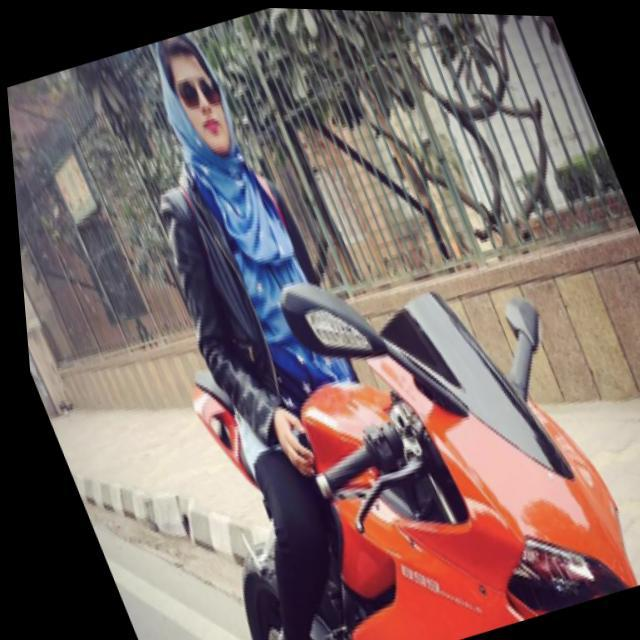Nonhelmet: (136, 29, 257, 171)
